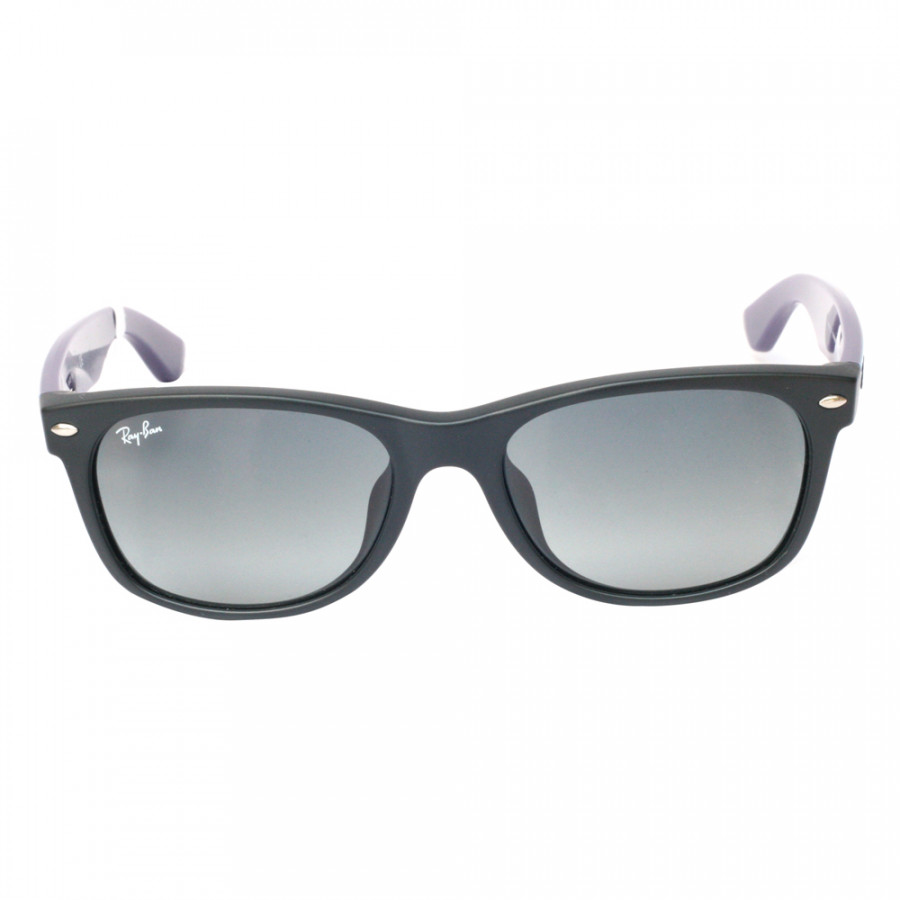Rayban: (108, 413, 168, 451)
